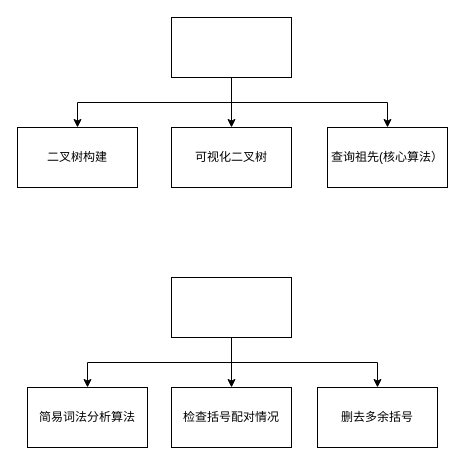
Some shapes in this 465 by 465 pixel diagram are drawn without their labels. Here are the shapes that lost their labels. From the top down, the box of each, then its label:
(170, 16, 292, 78): 求二叉树中结点的祖先算法系统
(170, 276, 292, 338): 程序中括号配对分析器
